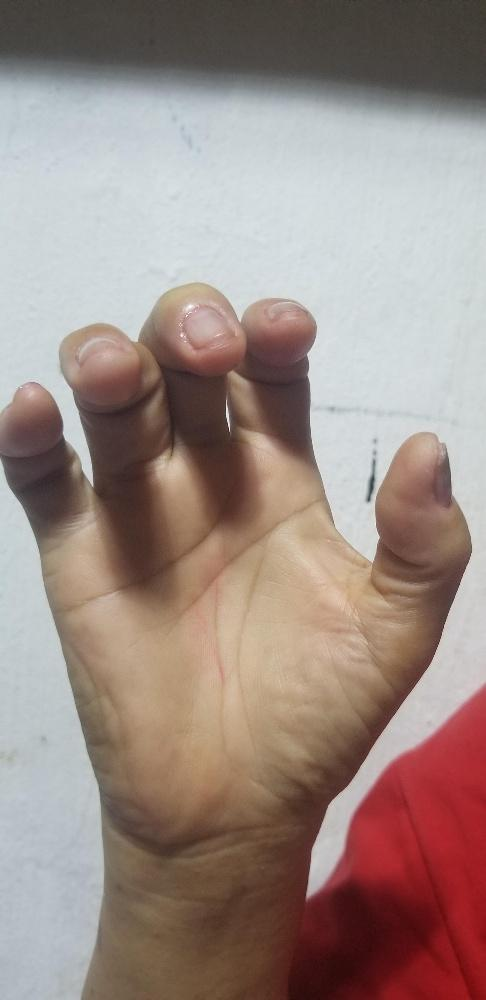e: (0, 276, 472, 837)
